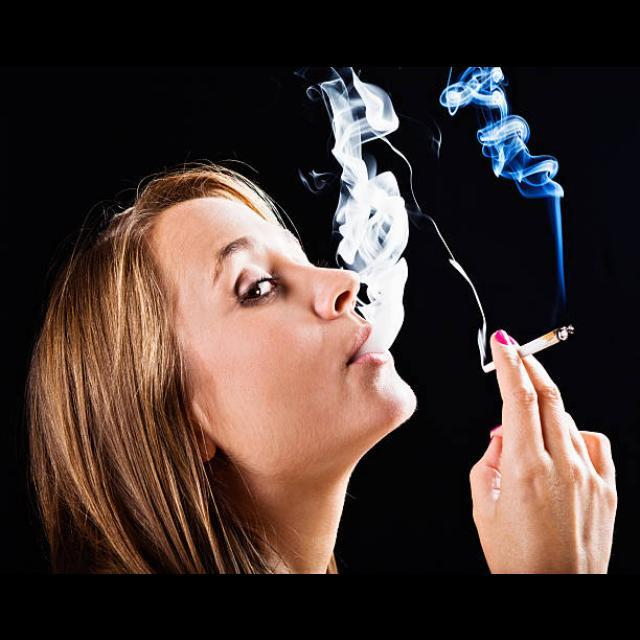rokok: (496, 317, 576, 367)
